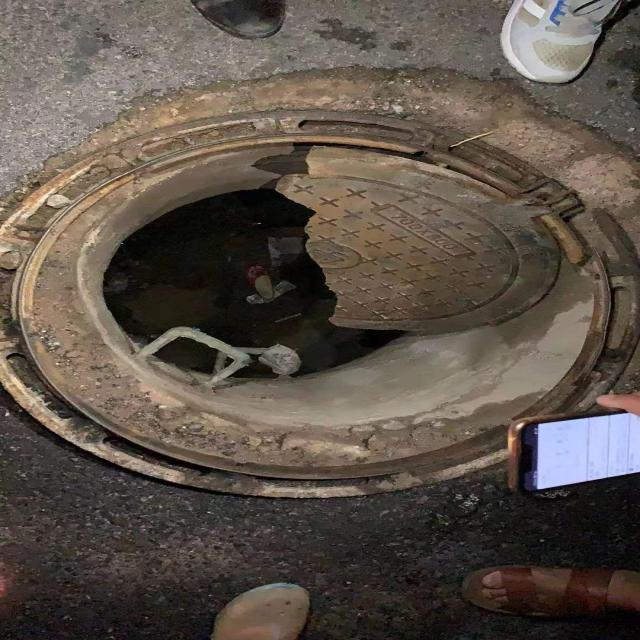manhole-cover: (37, 111, 630, 490)
